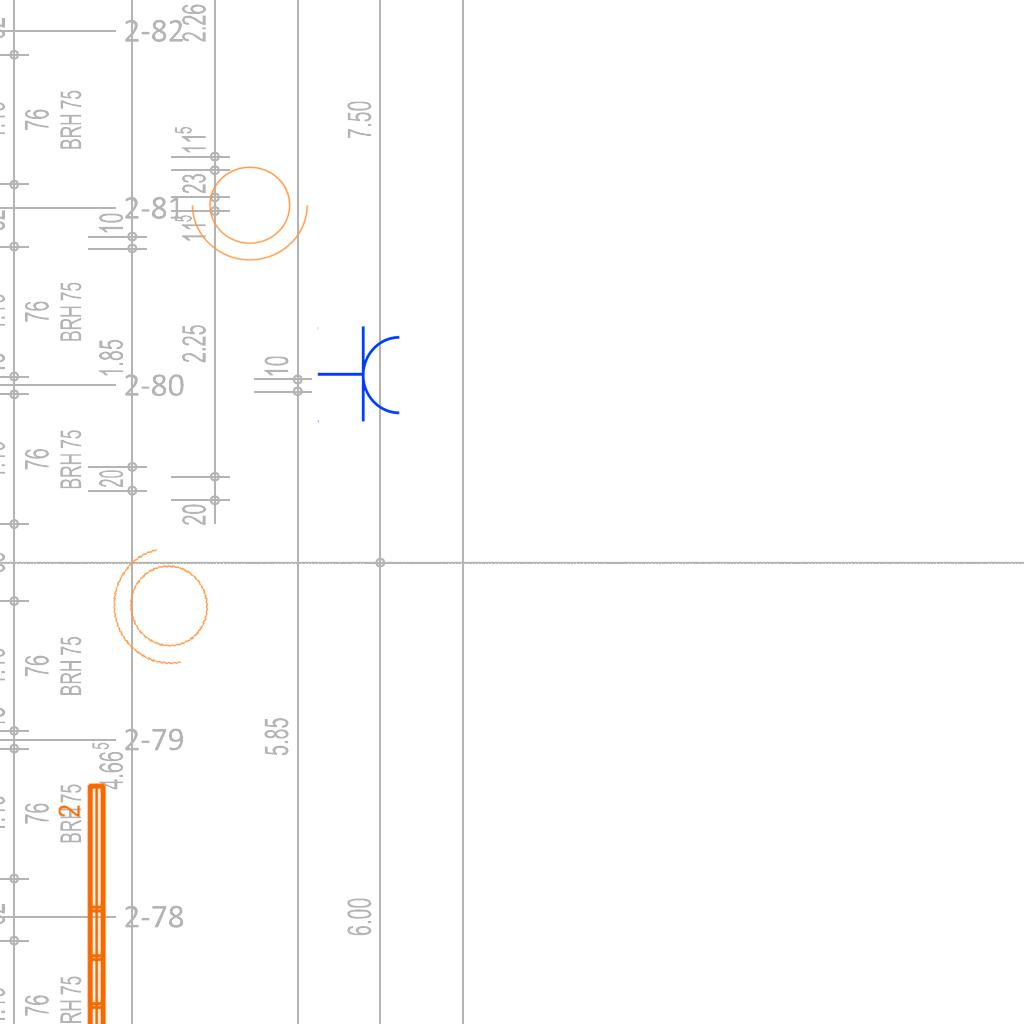Ambulanz_Pendelleuchte_LED: (56, 779, 112, 1024)
Scheinwerfer_fuer_Alarmbeleuchtung: (96, 533, 234, 687), (187, 154, 319, 266)
Schukosteckdose_einfach: (317, 325, 404, 425)
